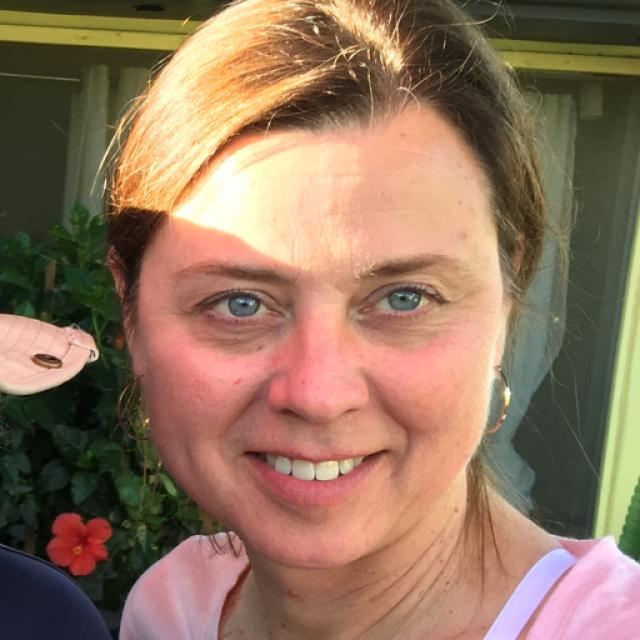Dark Circle: (354, 307, 444, 346), (204, 314, 285, 351)
